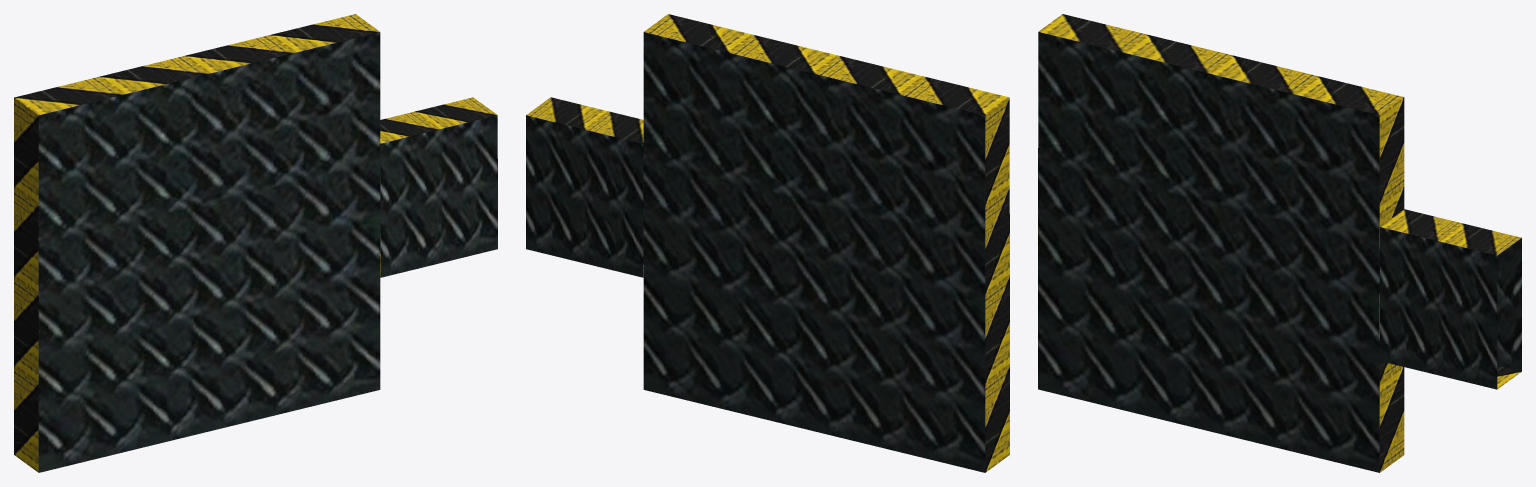
The model's file is elevator_base.glb.
The picture shows the model from 3 angles, left to right: view 1: azimuth 30°, elevation 25°; view 2: azimuth 150°, elevation 25°; view 3: azimuth 330°, elevation 25°; orthographic projection.
Parts seen in each view (by area): view 1: base; view 2: base; view 3: base.
Part boxes in pixels (<box>): base: <box>14,14,497,472</box>; base: <box>526,14,1009,472</box>; base: <box>1038,14,1521,472</box>.
Bounding box in the file's own units: 5.37 × 4 × 0.5.
2 materials, 2 textured.
